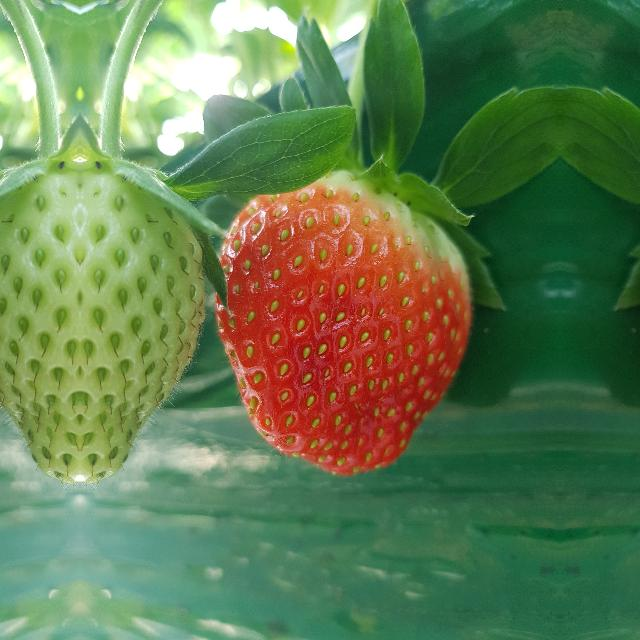Health_100: (215, 170, 473, 478)
Health_25: (80, 132, 206, 482), (0, 132, 80, 482)
